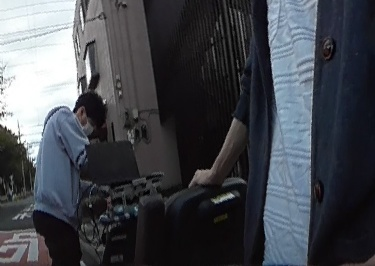person: (29, 92, 105, 266)
